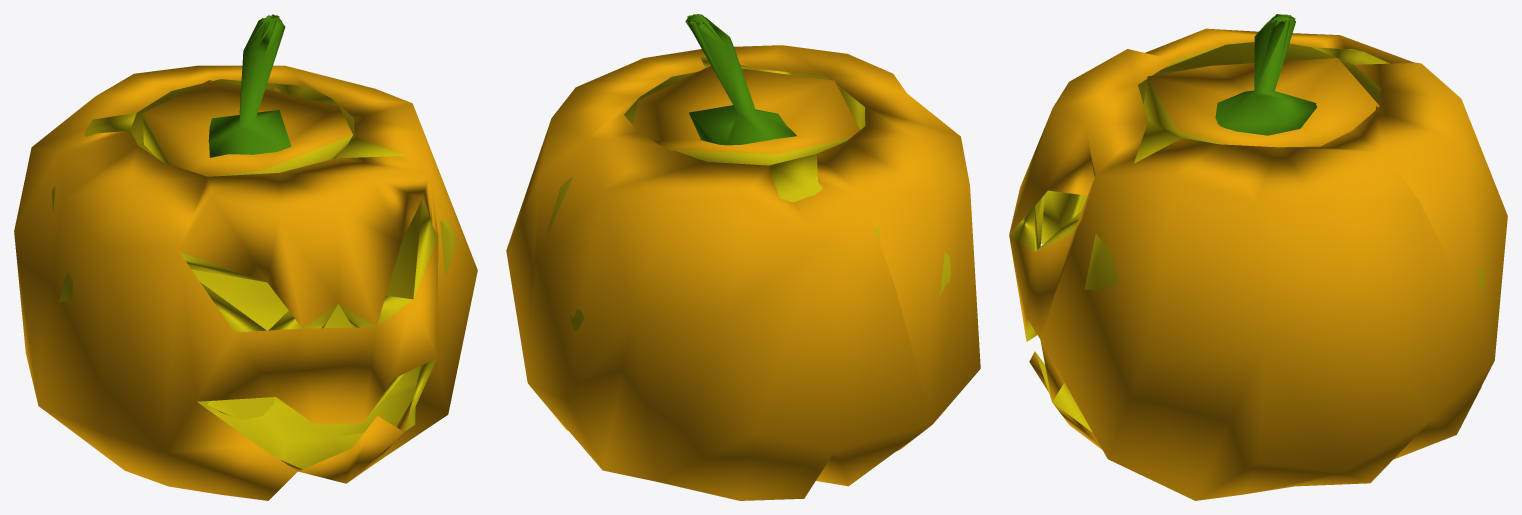
The model's file is Badjak.fbx.
3 renders of one model, left to right at view 1: azimuth 30°, elevation 25°; view 2: azimuth 150°, elevation 25°; view 3: azimuth 270°, elevation 25°, orthographic. The views are drawn at different scales.
Parts seen in each view (by area): view 1: Connect, Top; view 2: Connect, Top; view 3: Connect, Top.
Part boxes in pixels (bbox=[...]): Connect: bbox=[14, 65, 477, 500]; Top: bbox=[143, 14, 352, 176]; Connect: bbox=[506, 45, 980, 500]; Top: bbox=[633, 14, 859, 165]; Connect: bbox=[1009, 28, 1507, 500]; Top: bbox=[1143, 14, 1379, 147].
Size of the model in its own units: 50.06 by 49.01 by 51.02.
